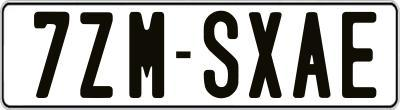7: (33, 10, 69, 97)
A: (293, 11, 332, 99)
E: (339, 12, 376, 98)
M: (129, 9, 166, 99)
S: (204, 8, 241, 101)
X: (248, 12, 283, 98)
Z: (79, 12, 115, 101)
